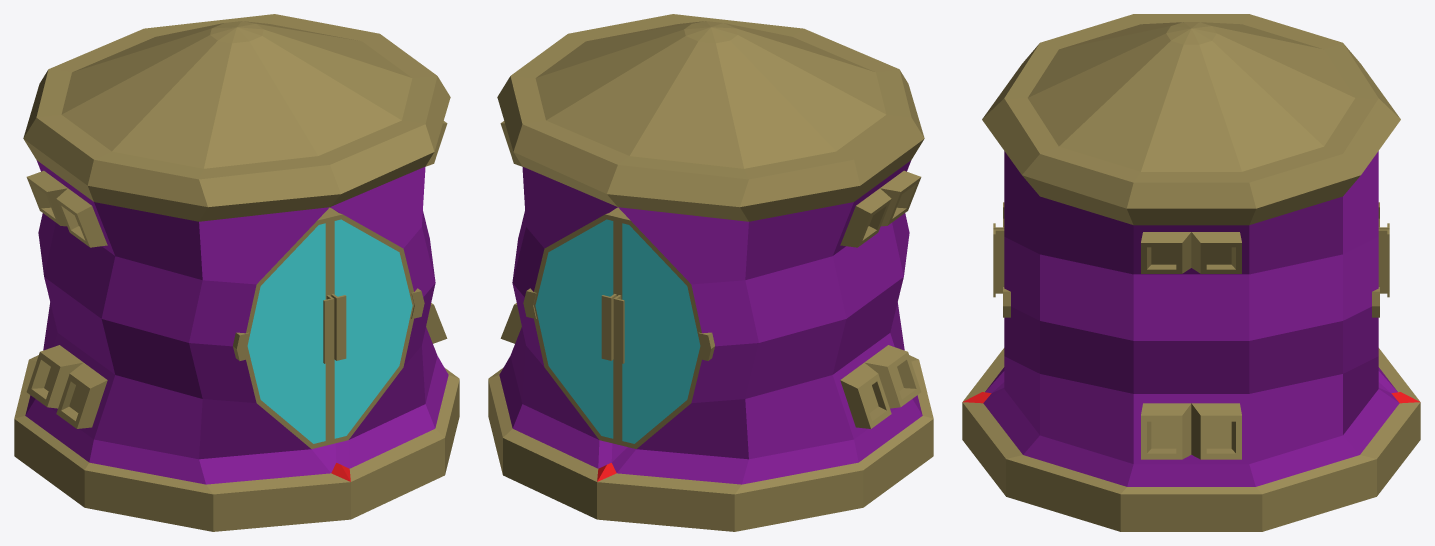
The model's file is Kiln + Plate UVs.fbx.
The picture shows the model from 3 angles, left to right: view 1: azimuth 30°, elevation 25°; view 2: azimuth 150°, elevation 25°; view 3: azimuth 270°, elevation 25°; orthographic projection.
Parts seen in each view (by area): view 1: Kiln, Kiln Door BR, Kiln Door BL; view 2: Kiln, Kiln Door. FR, Kiln Door FL; view 3: Kiln, Kiln Door FL, Kiln Door BL.
Boxes of the visible parts, x1,y1,x2,y2 form: Kiln: (14,14,459,531); Kiln Door BR: (246,213,334,448); Kiln Door BL: (324,207,413,444); Kiln: (488,14,933,531); Kiln Door. FR: (613,213,701,448); Kiln Door FL: (534,207,623,444); Kiln: (962,14,1420,531); Kiln Door FL: (1378,229,1389,297); Kiln Door BL: (993,229,1004,297).
Bounding box in the file's own units: 666 × 700 × 694.
